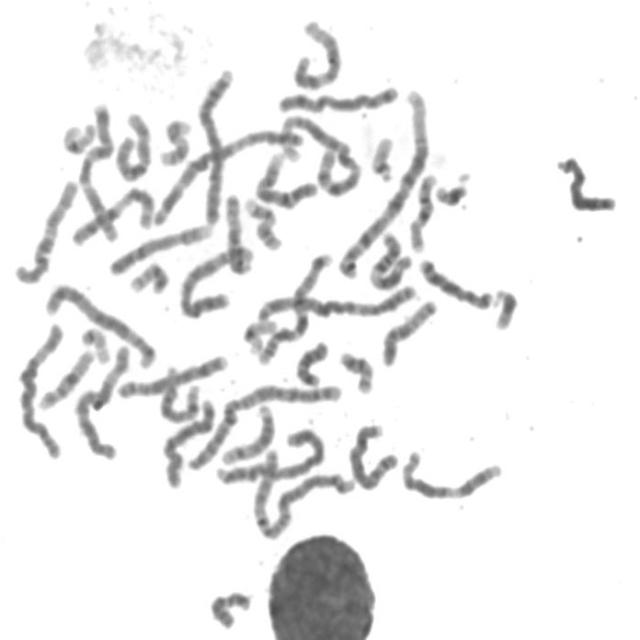A1: (334, 82, 434, 280), (275, 107, 365, 198)
A2: (182, 376, 346, 471), (250, 446, 362, 540)
A3: (146, 123, 305, 228), (252, 278, 422, 324)
B4: (194, 60, 238, 228), (212, 426, 328, 487)
B5: (40, 278, 160, 371), (175, 238, 258, 320)
C10: (10, 172, 81, 286), (111, 105, 156, 183)
C11: (67, 180, 159, 248), (364, 224, 417, 292)
C12: (396, 444, 507, 503), (288, 12, 346, 91)
C6: (13, 317, 68, 462), (71, 338, 133, 463)
C7: (254, 247, 337, 366), (74, 99, 122, 247)
C8: (113, 348, 231, 400), (344, 417, 401, 492)
C9: (105, 217, 214, 278), (250, 145, 321, 210)
D13: (415, 251, 498, 310), (554, 153, 620, 217)
D14: (217, 396, 278, 467), (158, 364, 202, 424)
D15: (377, 293, 440, 369), (220, 187, 256, 276)
E16: (34, 342, 99, 413), (404, 165, 442, 254)
E17: (240, 191, 285, 252), (155, 113, 195, 167)
E18: (206, 584, 255, 631), (291, 334, 332, 387)
F19: (239, 314, 281, 356), (57, 116, 99, 156)
F20: (335, 344, 378, 396), (124, 256, 172, 296)
G21: (432, 167, 476, 209), (488, 282, 522, 332)
G22: (366, 128, 399, 184), (77, 320, 114, 366)
X: (158, 393, 219, 490), (272, 78, 403, 116)
Y: (291, 334, 332, 387)
